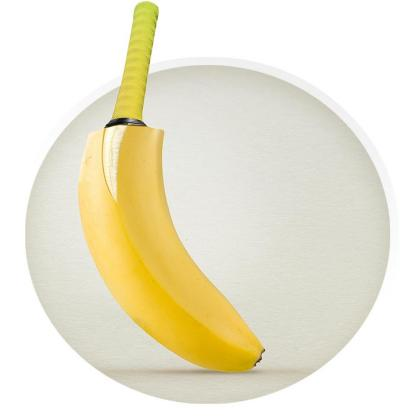banana: (62, 122, 271, 384)
